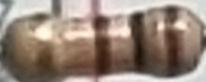Black: (127, 12, 150, 74)
Brown: (162, 4, 186, 78), (95, 14, 113, 78)
Side-Gold: (32, 13, 59, 82)
